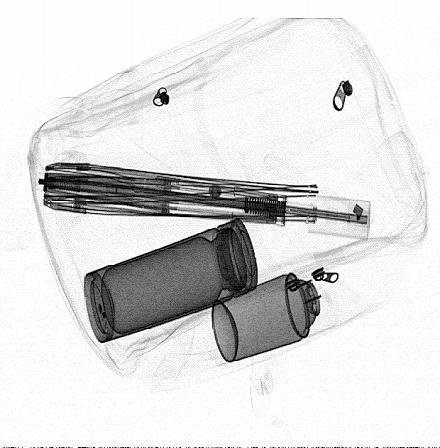Sprayer: (211, 264, 339, 363)
